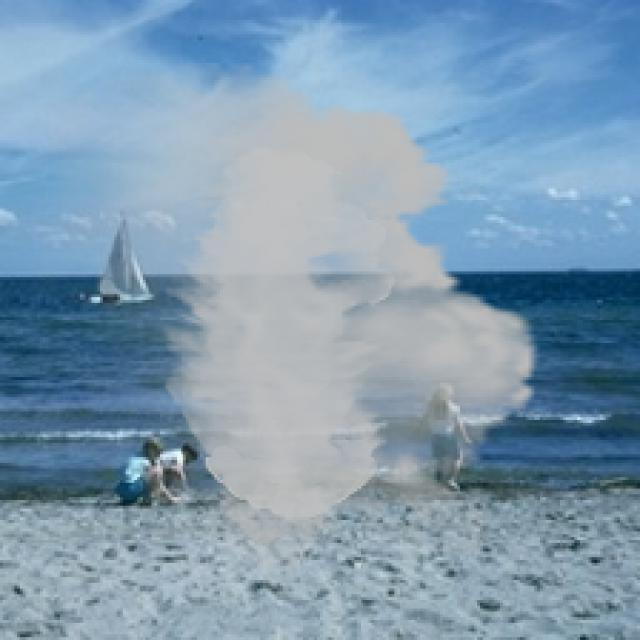smoke: (9, 63, 560, 588)
